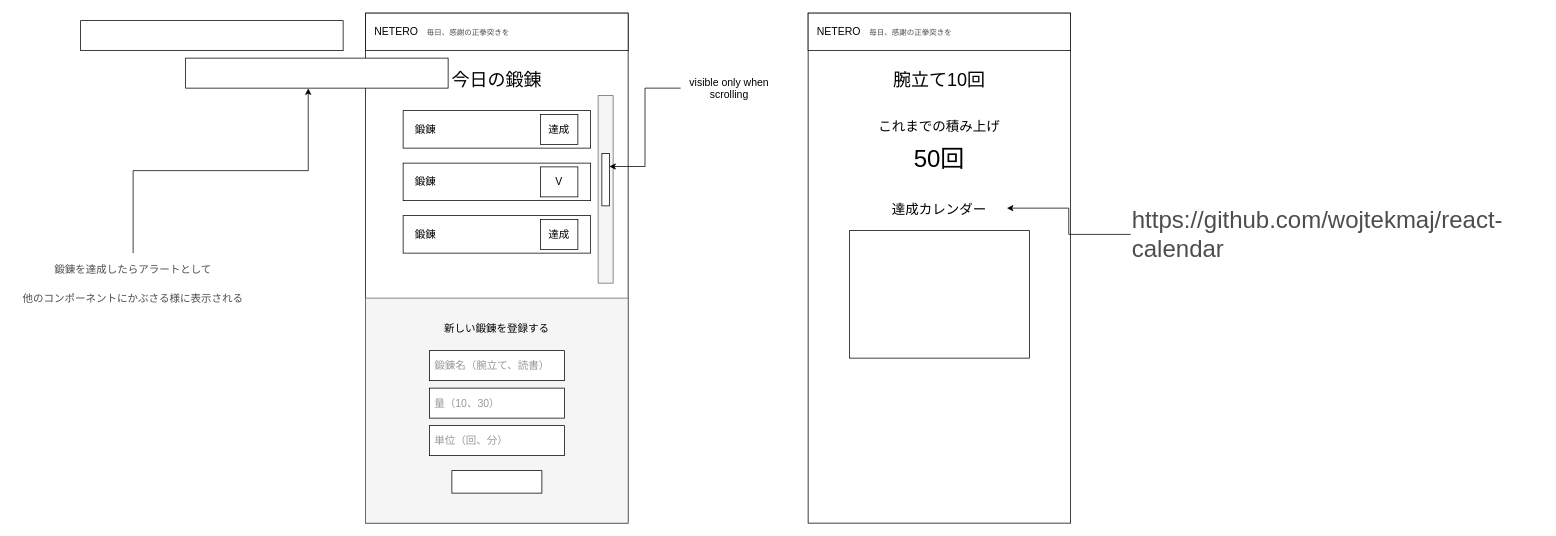
The diagram is 1556 pixels wide and 536 high, and some of its shapes have lost their labels. Each missing label, with the centre of its shape:
[training name]を登録しまし た !: (211,35)
[training name]を達成しまし た !: (316,72)
登録: (496,481)
